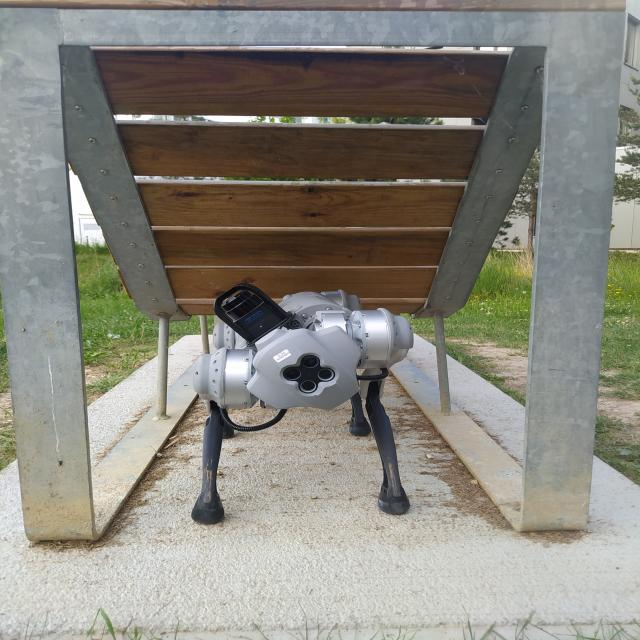unitree-go1-robot: (189, 280, 422, 538)
